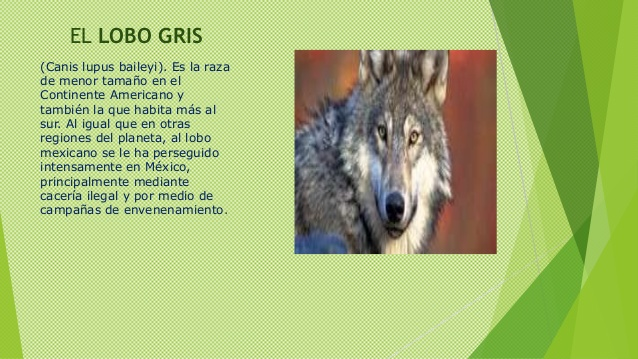Lobo: (297, 57, 465, 247)
